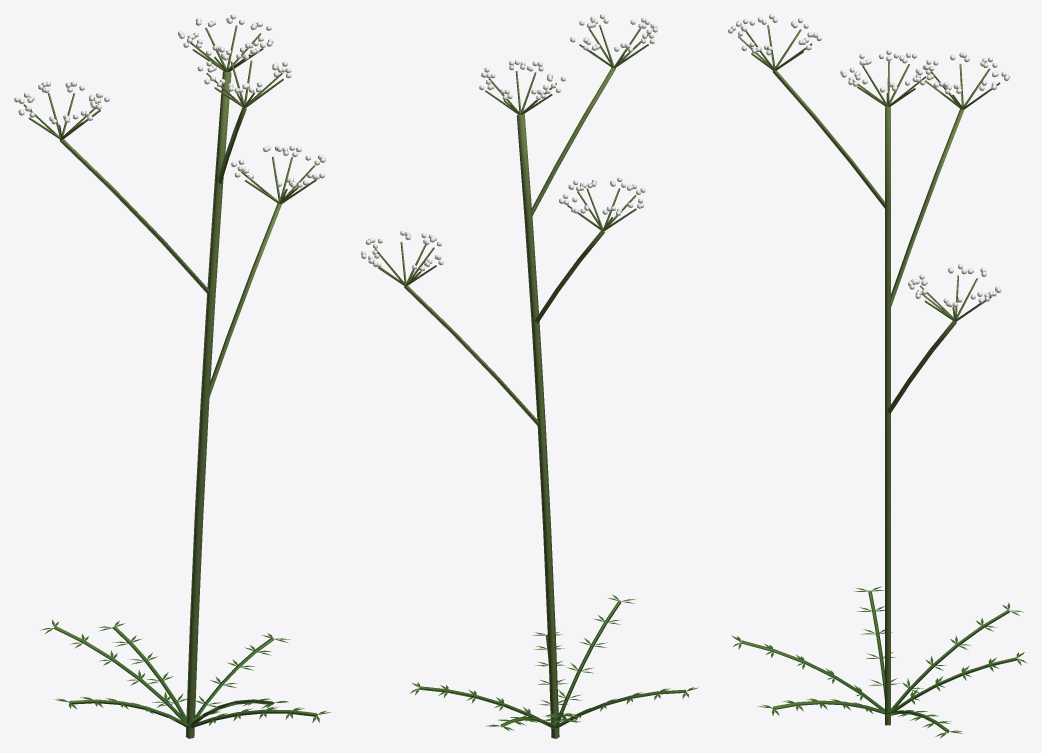
The model's file is caraway.glb.
3 views of the same model, side by side, from view 1: azimuth 30°, elevation 25°; view 2: azimuth 150°, elevation 25°; view 3: azimuth 270°, elevation 25° (orthographic). The views are drawn at different scales.
Parts seen in each view (by area): view 1: caraway; view 2: caraway; view 3: caraway.
Part boxes in pixels (x1,y1,x2,y2): caraway: [14, 14, 330, 738]; caraway: [361, 14, 698, 738]; caraway: [728, 14, 1027, 738].
Size of the model in its own units: 0.3186 by 0.705 by 0.2778.
1 material, 1 textured.
